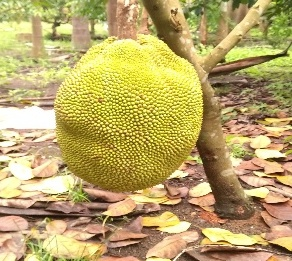Mit: (56, 38, 205, 188)
